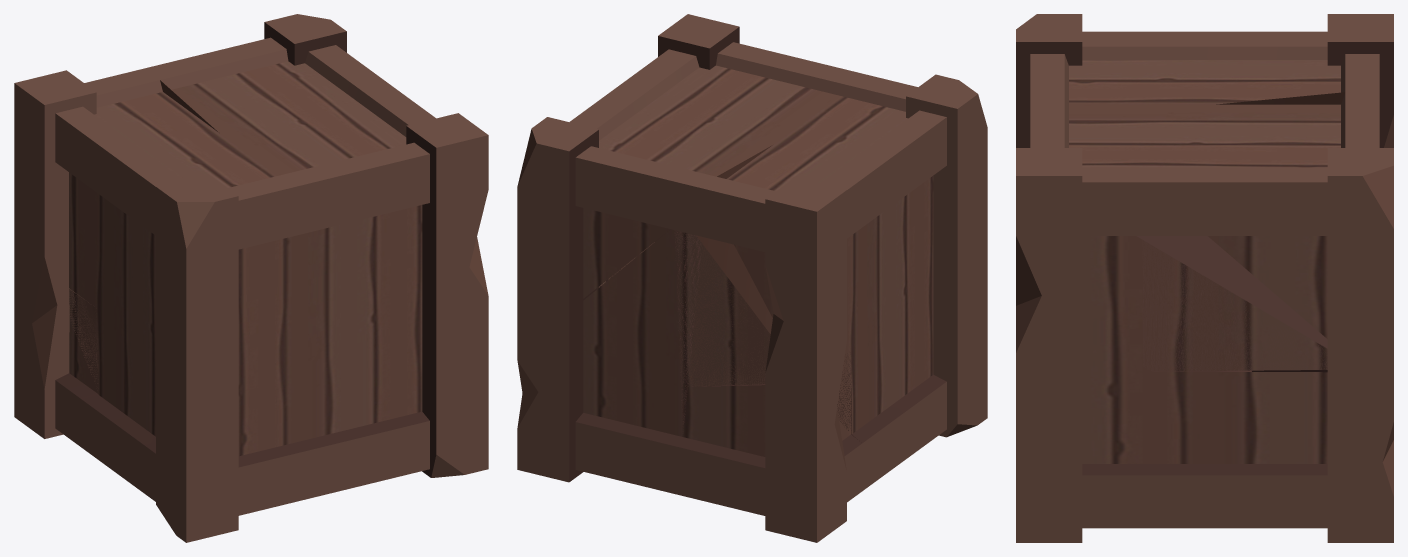
File: Crate Parts.fbx
3 views of the same model, side by side, from view 1: azimuth 30°, elevation 25°; view 2: azimuth 150°, elevation 25°; view 3: azimuth 270°, elevation 25° (orthographic). The views are drawn at different scales.
Visible parts, largest first — view 1: Crate_Part1, Crate_Part5, Crate_Part2, Crate_Part3, Crate_Part4, Crate_Part; view 2: Crate_Part1, Crate_Part3, Crate_Part2, Crate_Part4, Crate_Part, Crate_Part5; view 3: Crate_Part3, Crate_Part1, Crate_Part4, Crate_Part2.
Part boxes in pixels (<box>): Crate_Part1: <box>81,108,488,401</box>; Crate_Part5: <box>81,310,334,542</box>; Crate_Part2: <box>14,68,219,308</box>; Crate_Part3: <box>144,14,422,133</box>; Crate_Part4: <box>316,385,488,492</box>; Crate_Part: <box>14,265,98,447</box>; Crate_Part1: <box>645,14,987,349</box>; Crate_Part3: <box>517,67,773,352</box>; Crate_Part2: <box>688,144,862,393</box>; Crate_Part4: <box>517,205,765,492</box>; Crate_Part: <box>670,350,862,542</box>; Crate_Part5: <box>851,268,987,490</box>; Crate_Part3: <box>1136,92,1393,412</box>; Crate_Part1: <box>1016,14,1269,468</box>; Crate_Part4: <box>1016,370,1393,542</box>; Crate_Part2: <box>1216,14,1393,147</box>.
Bounding box in the file's own units: 82.7 × 87.34 × 81.47.
